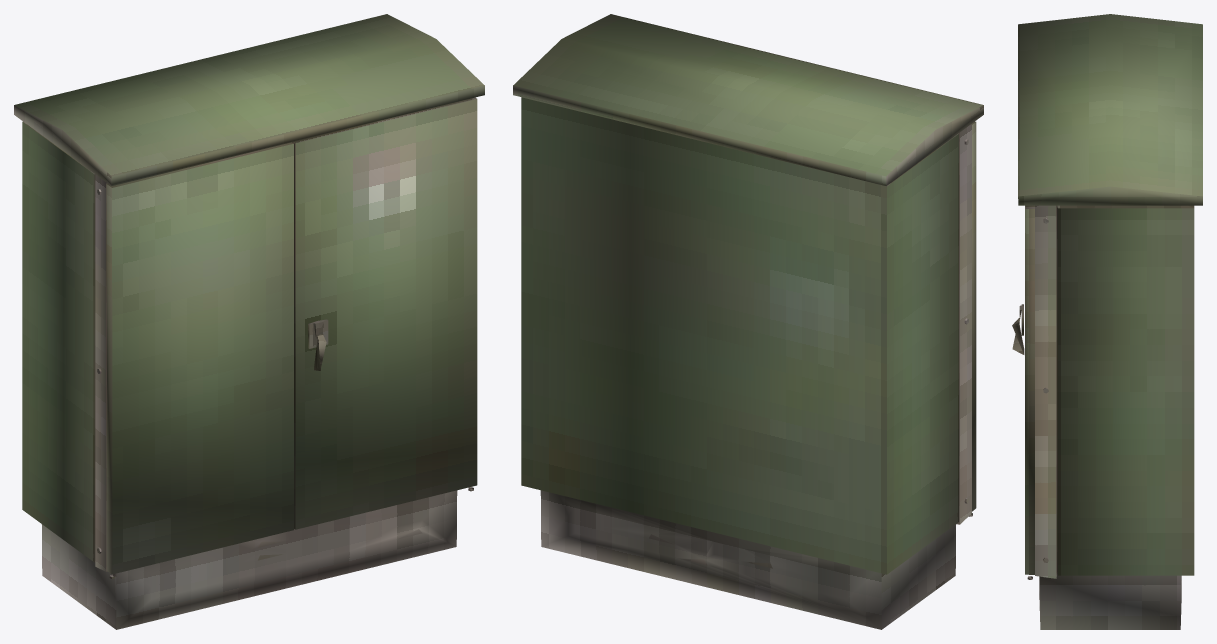
Rendered from utility_box_02.glb.
3 renders of one model, left to right at view 1: azimuth 30°, elevation 25°; view 2: azimuth 150°, elevation 25°; view 3: azimuth 270°, elevation 25°, orthographic. The views are drawn at different scales.
Parts seen in each view (by area): view 1: utility_box_02; view 2: utility_box_02; view 3: utility_box_02.
Boxes of the visible parts, x1,y1,x2,y2 form: utility_box_02: (14, 14, 484, 629); utility_box_02: (513, 14, 983, 629); utility_box_02: (1012, 14, 1202, 629).
Bounding box in the file's own units: 0.9165 × 1.12 × 0.4287.
1 material, 1 textured.
